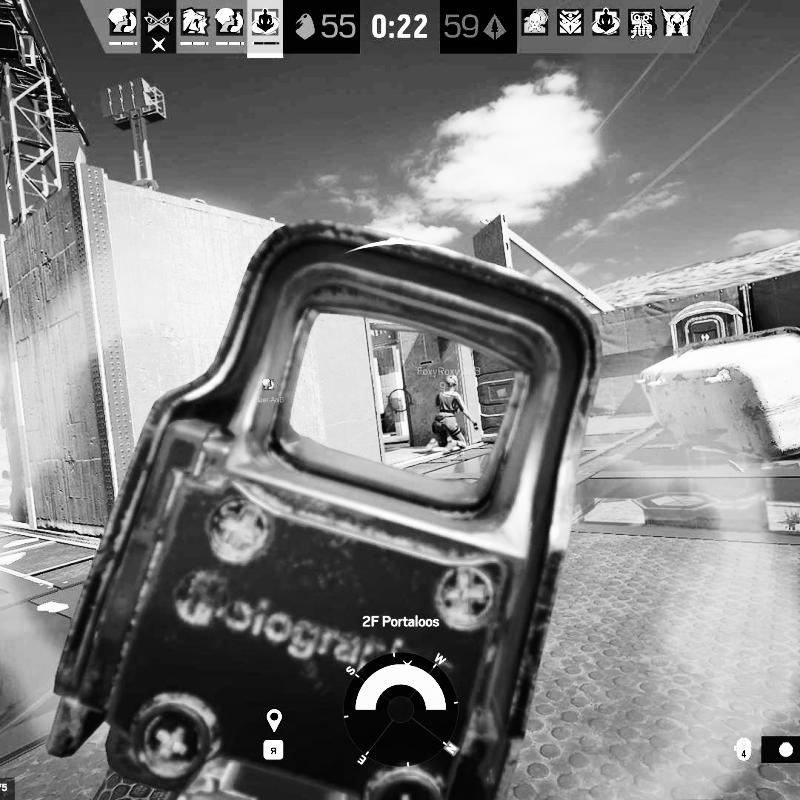Character: (424, 372, 481, 454)
Friend_label: (417, 348, 481, 378), (251, 378, 285, 404)
Head: (446, 375, 460, 392)
